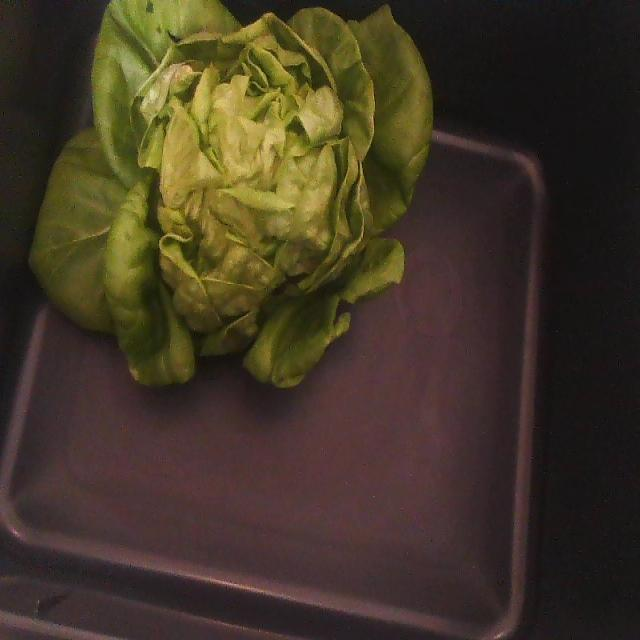lettuce: (31, 0, 432, 387)
